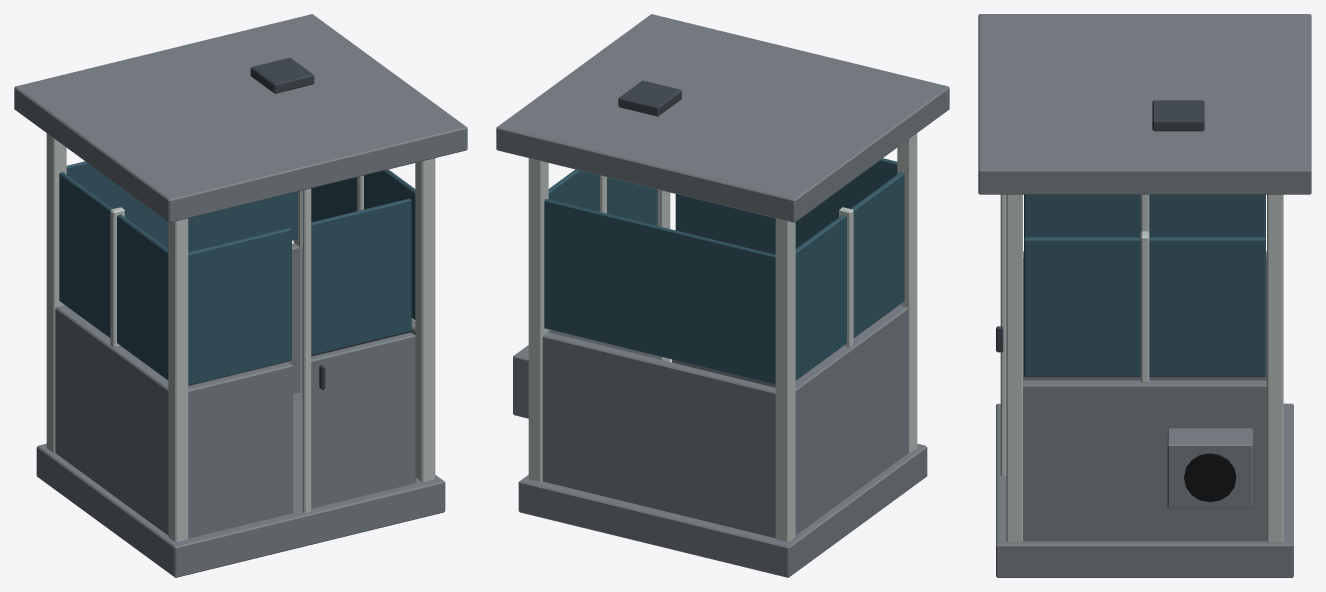
File: SecurityBooth.fbx
The picture shows the model from 3 angles, left to right: view 1: azimuth 30°, elevation 25°; view 2: azimuth 150°, elevation 25°; view 3: azimuth 270°, elevation 25°; orthographic projection. The views are drawn at different scales.
Visible parts, largest first — view 1: SecurityBooth; view 2: SecurityBooth; view 3: SecurityBooth.
Part boxes in pixels (box(x1,y1,x2,y2)): SecurityBooth: box(14, 14, 467, 577); SecurityBooth: box(496, 14, 949, 577); SecurityBooth: box(978, 14, 1311, 577).
Size of the model in its own units: 208 by 253 by 179.
1 material, 1 textured.
